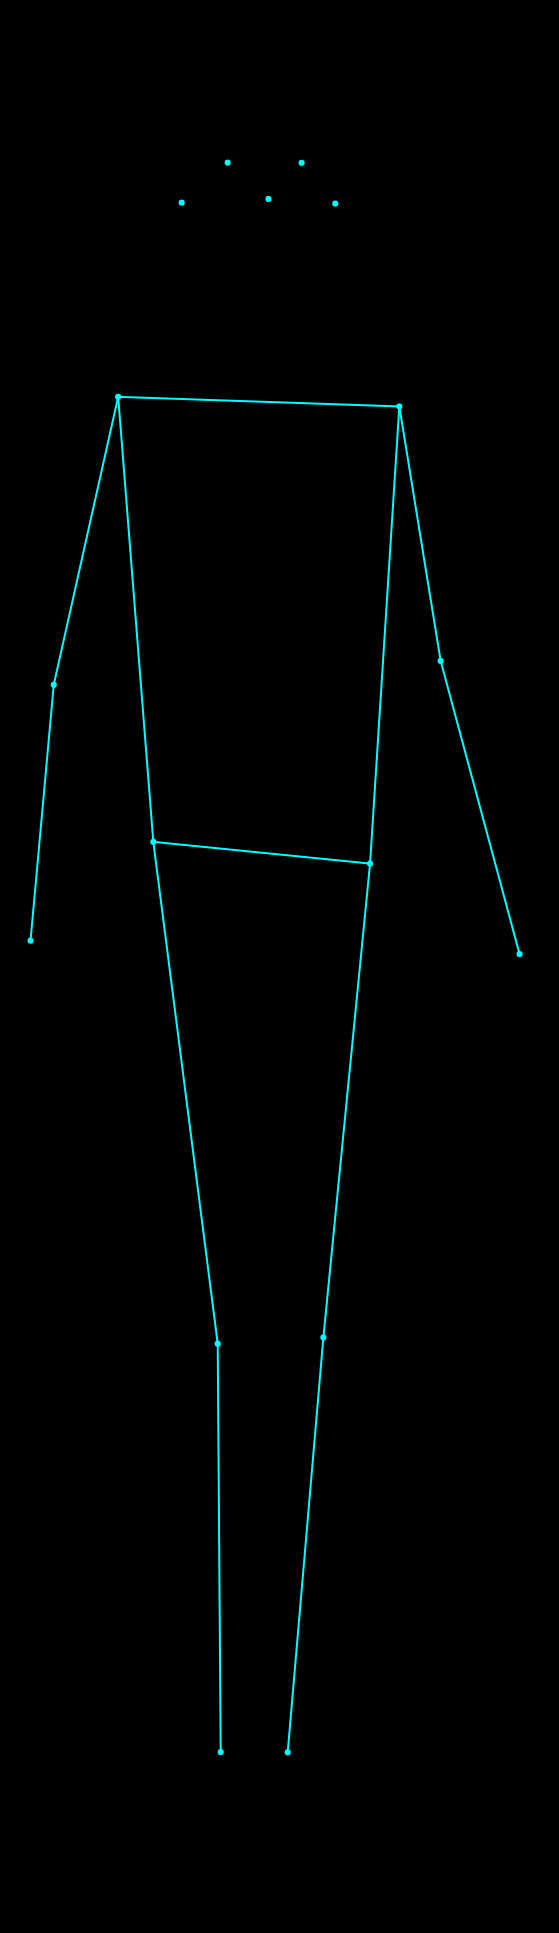mountain: (10, 121, 522, 1772)
